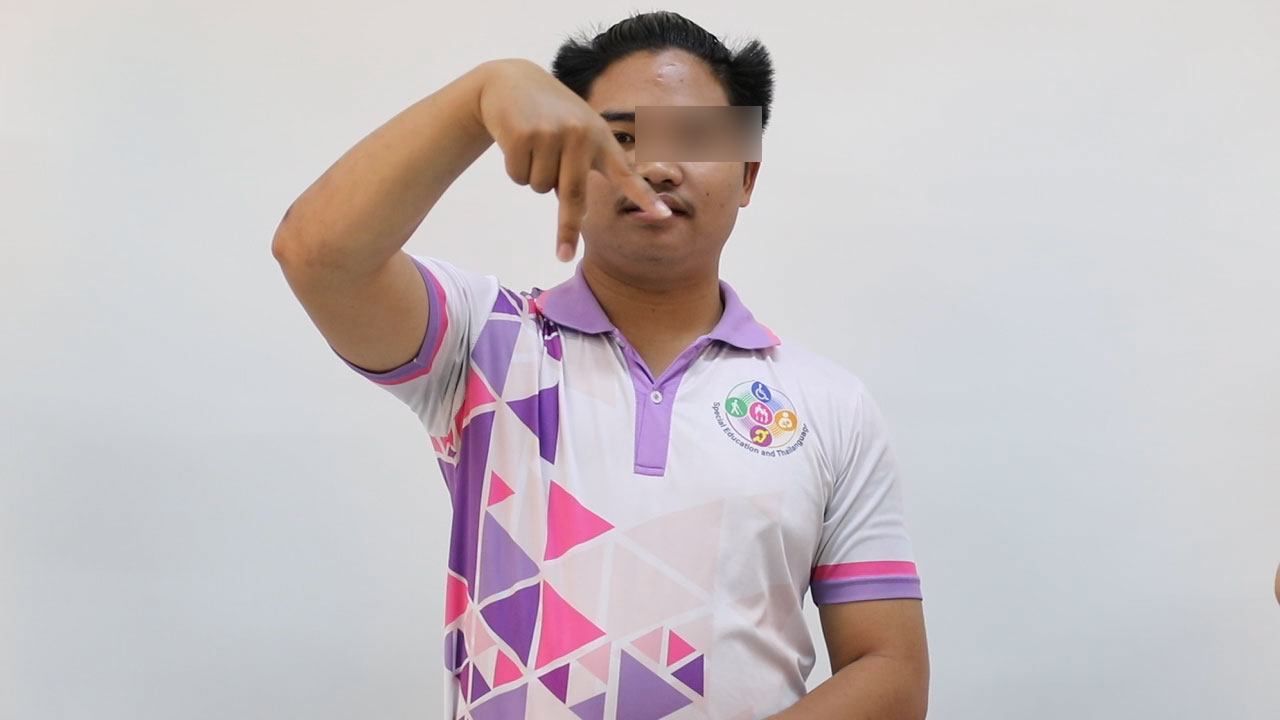por: (464, 43, 686, 269)
